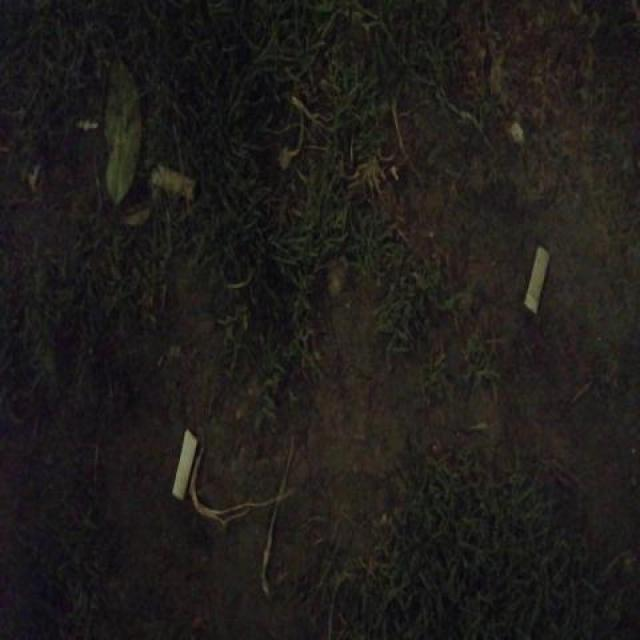non-organic waste: (142, 159, 201, 210), (166, 424, 202, 504), (520, 240, 552, 312)
